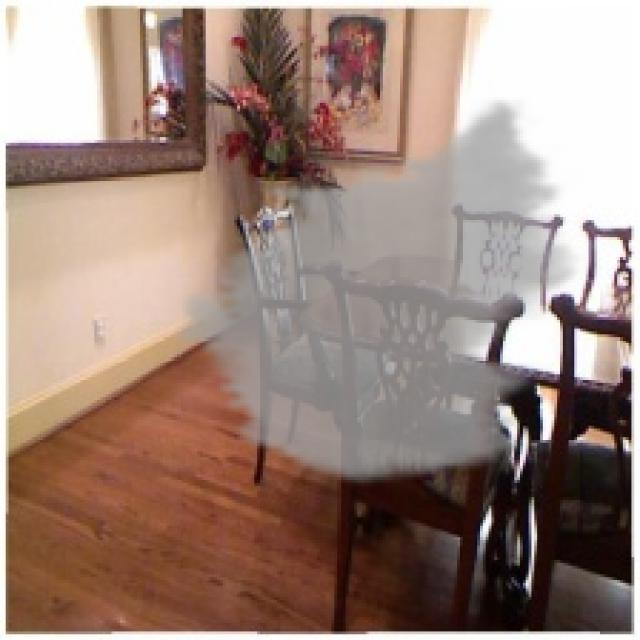smoke: (166, 97, 591, 489)
